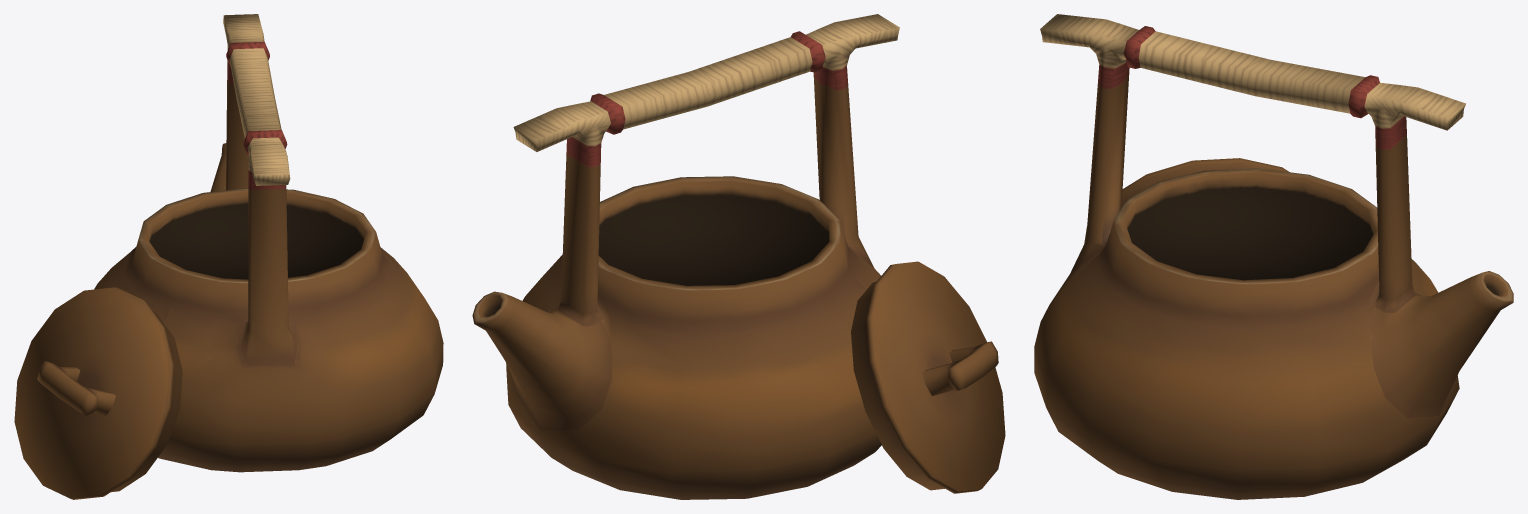
File: Tetera.fbx
The picture shows the model from 3 angles, left to right: view 1: azimuth 30°, elevation 25°; view 2: azimuth 150°, elevation 25°; view 3: azimuth 270°, elevation 25°; orthographic projection. The views are drawn at different scales.
Visible parts, largest first — view 1: teapot; view 2: teapot; view 3: teapot.
Part boxes in pixels (x1,y1,x2,y2): teapot: (14, 14, 443, 499); teapot: (472, 14, 1005, 499); teapot: (1034, 14, 1513, 499).
Bounding box in the file's own units: 225 × 185 × 209.
